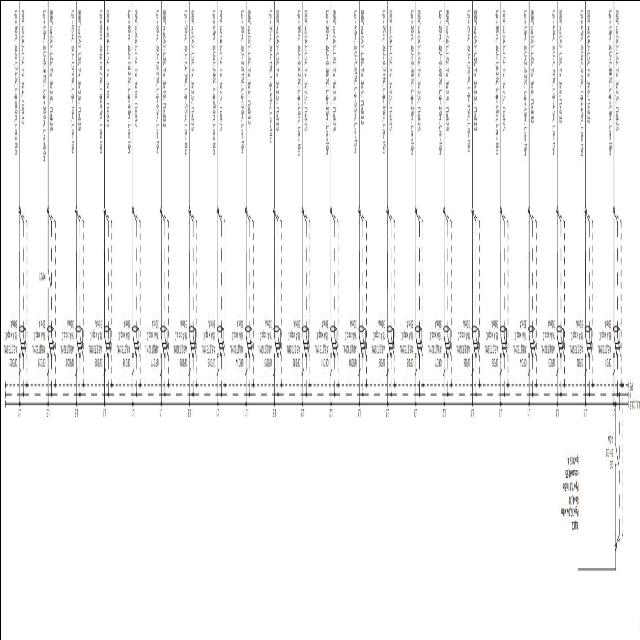-: (200, 314, 216, 354), (398, 315, 414, 355), (30, 314, 46, 354), (370, 316, 386, 356), (228, 314, 244, 354), (596, 314, 612, 354), (484, 314, 499, 354), (427, 315, 442, 355), (568, 316, 583, 356), (2, 315, 17, 355), (172, 315, 187, 355), (454, 315, 469, 355), (87, 314, 102, 354), (539, 314, 554, 354), (313, 315, 328, 355), (342, 316, 357, 356), (257, 314, 272, 354), (59, 314, 74, 354), (511, 316, 526, 356), (286, 314, 300, 354), (116, 314, 130, 354), (144, 314, 158, 354), (605, 432, 613, 457), (570, 518, 578, 532)
KM: (46, 265, 50, 293)
QFD: (611, 322, 621, 376), (186, 322, 196, 376), (498, 324, 508, 378), (328, 324, 338, 378), (300, 322, 310, 376), (582, 322, 592, 376), (526, 324, 536, 378), (554, 324, 564, 377), (272, 322, 282, 375), (442, 322, 452, 375), (244, 324, 254, 377), (74, 322, 84, 375), (214, 324, 224, 376), (102, 324, 112, 376), (130, 324, 140, 376), (159, 322, 169, 374), (386, 322, 396, 374), (356, 324, 366, 376), (413, 324, 423, 376), (470, 324, 480, 376), (17, 324, 27, 376), (46, 324, 56, 376)
QS: (612, 442, 618, 470)
